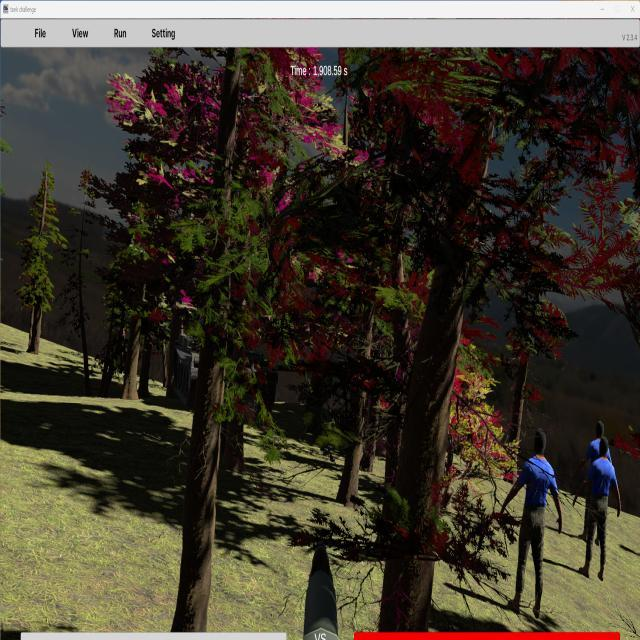Human: (500, 427, 563, 619), (573, 433, 621, 582)
